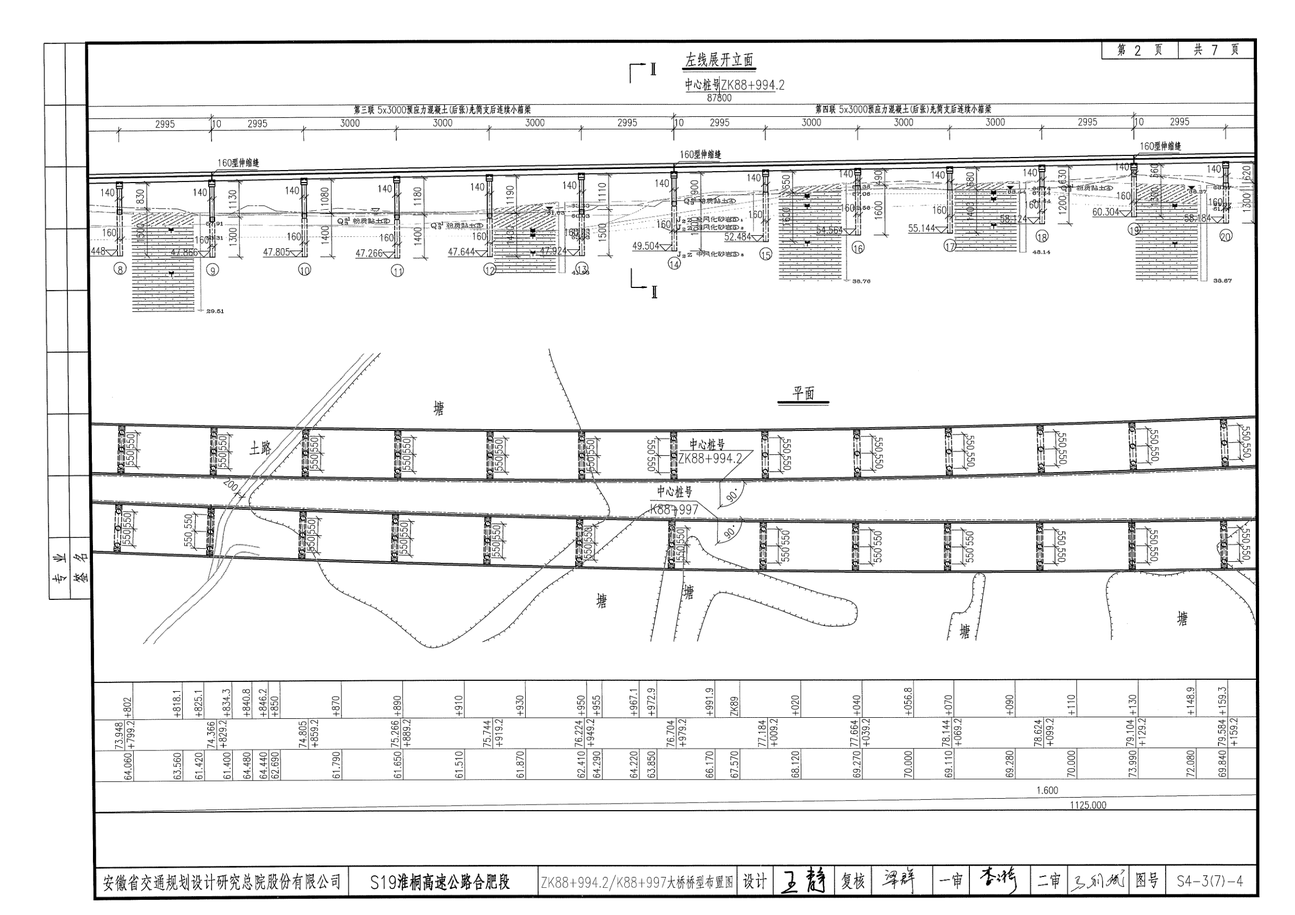A: (72, 51, 1268, 296)
